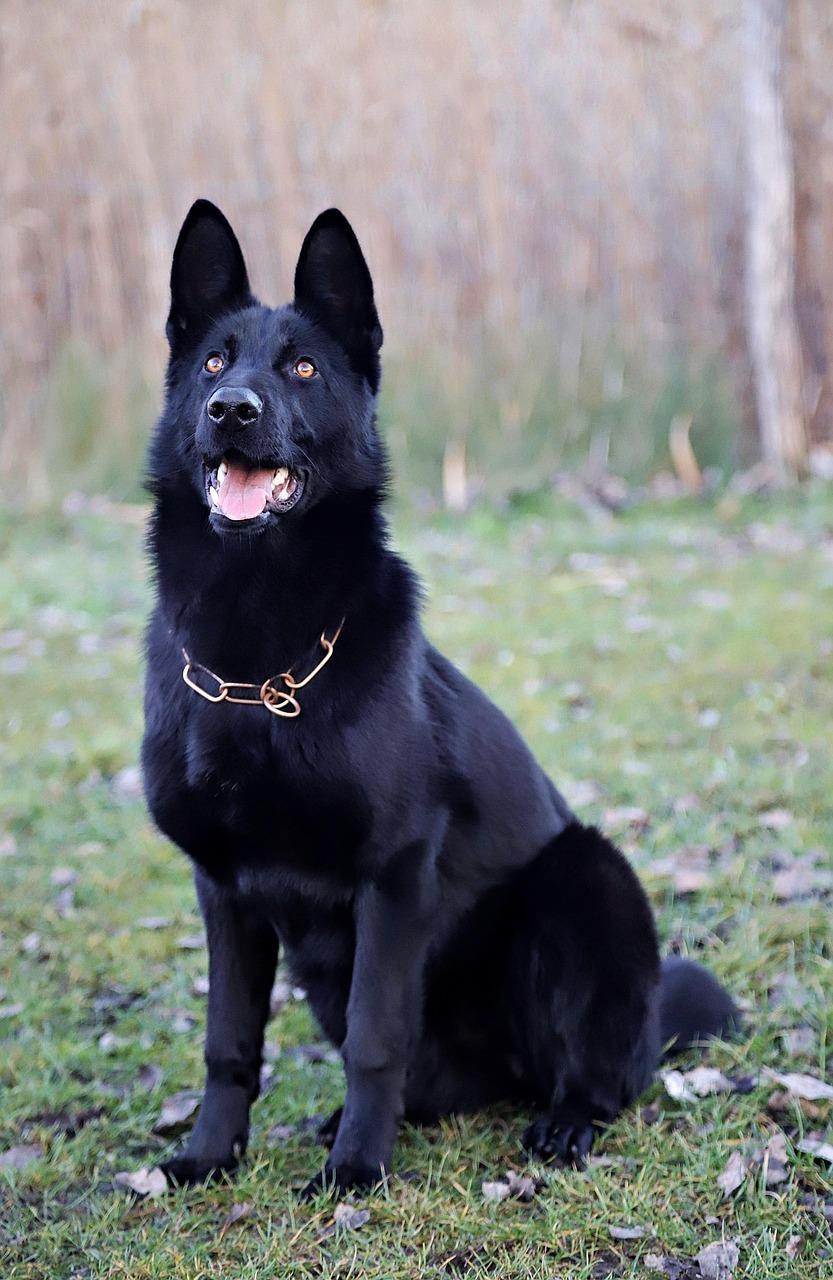german_shepherd: (124, 210, 408, 570)
